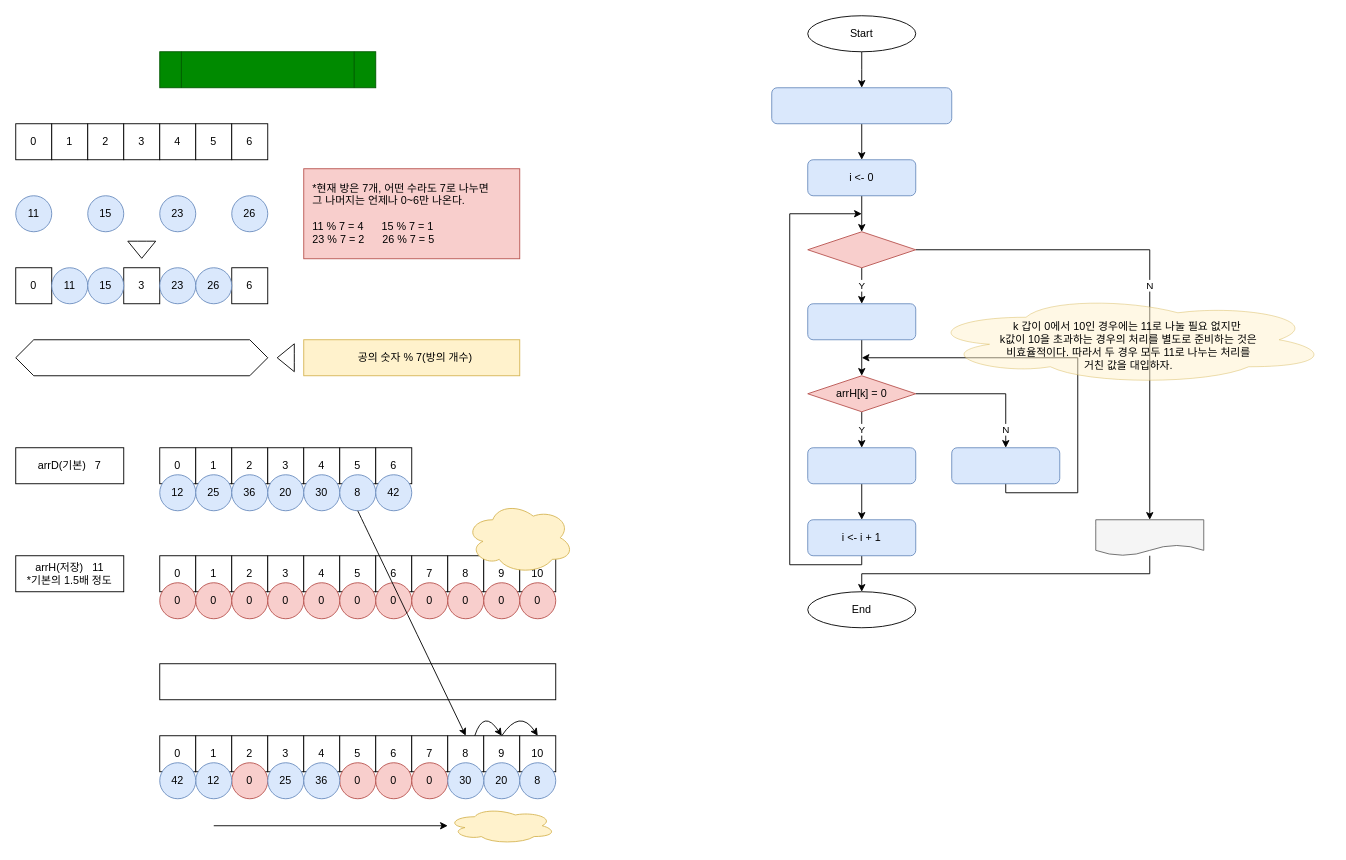
The diagram is 1346 pixels wide and 860 high, and some of its shapes have lost their labels. The centre of each missing label's shape, as x and y in pixels:
"0으로 초기화" belongs at [519,537].
"arrD = {12,25,36,20, 30,8,42} arrH = [11]" belongs at [861,105].
"arrH" belongs at [1149,537].
"arrH[k] <- arrD[i]" belongs at [861,465].
"Hash Search" belongs at [267,69].
"i < 7" belongs at [861,249].
"k <- (k + 1) % 11" belongs at [1005,465].
"k <- arrD[i] % 11" belongs at [861,321].
"공을 넣은 칸의 번호" belongs at [141,357].
"오른쪽++" belongs at [501,825].
"해시 함수 : 공의 숫자 % 11(방의 개수)" belongs at [357,681].
